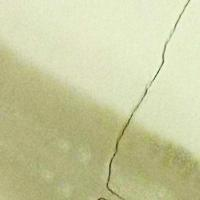crack: (100, 0, 188, 199)
